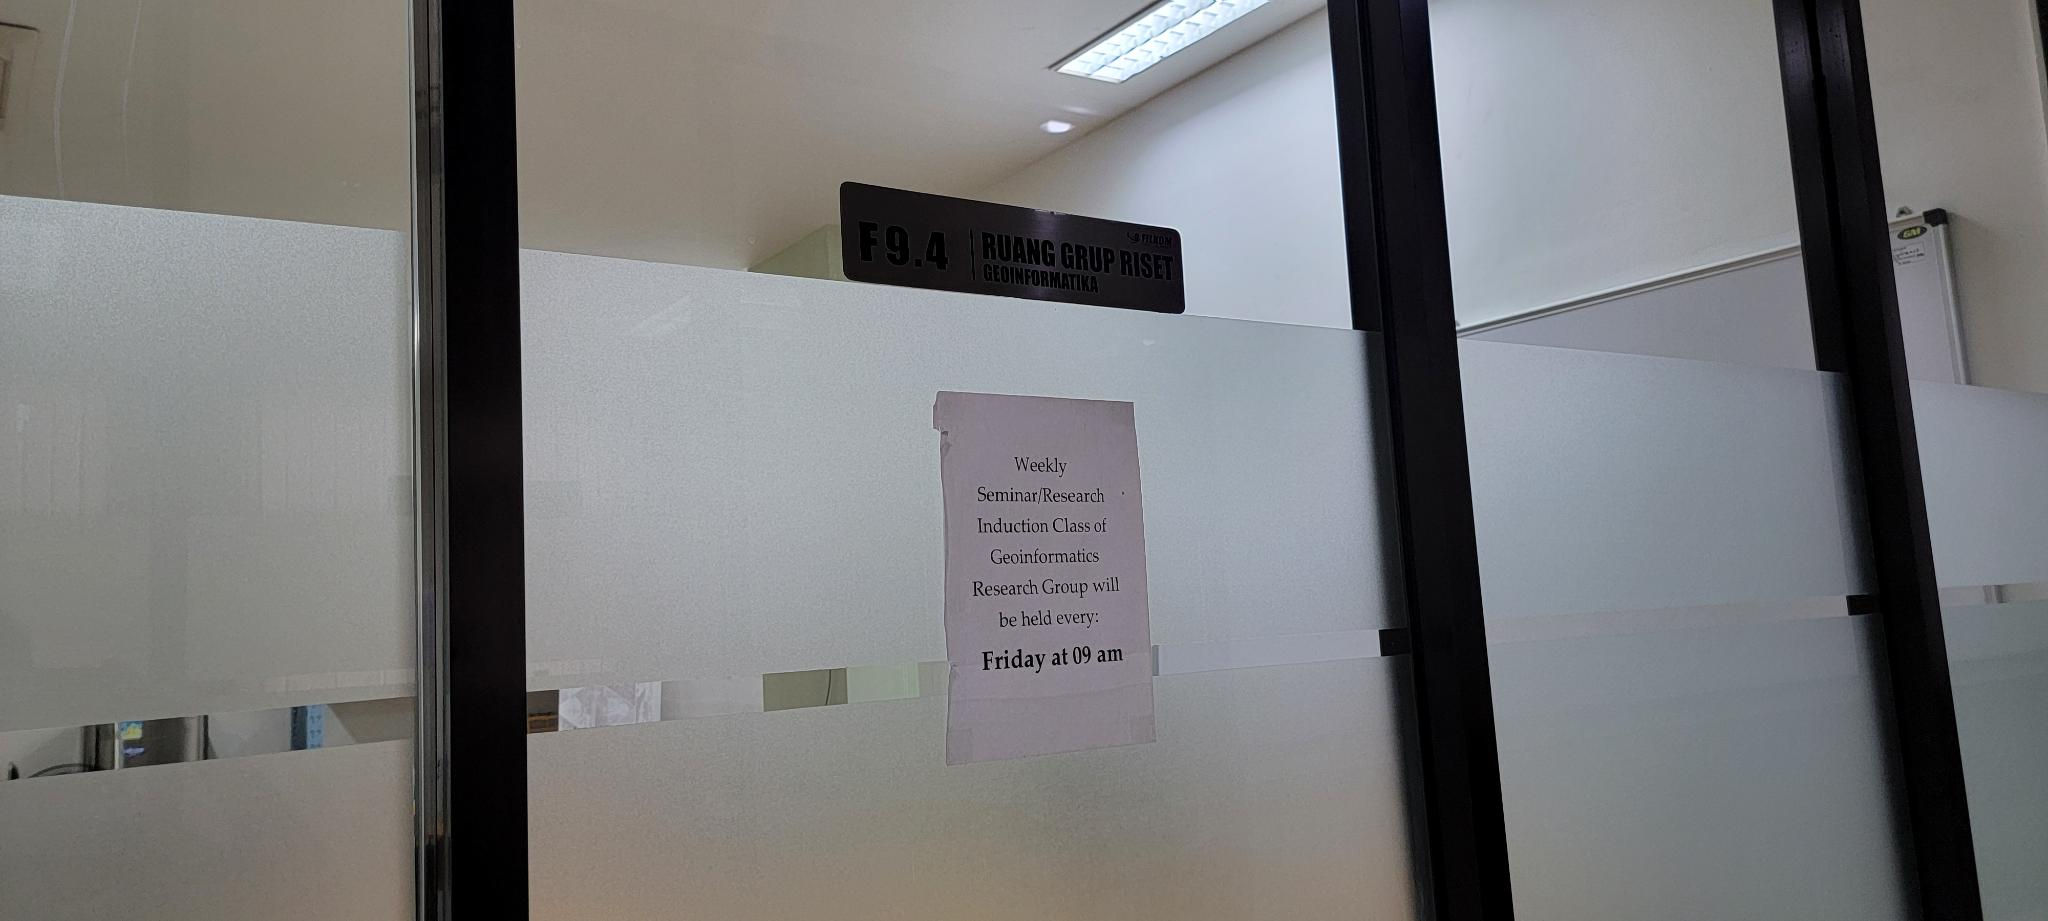plate: (837, 176, 1185, 319)
